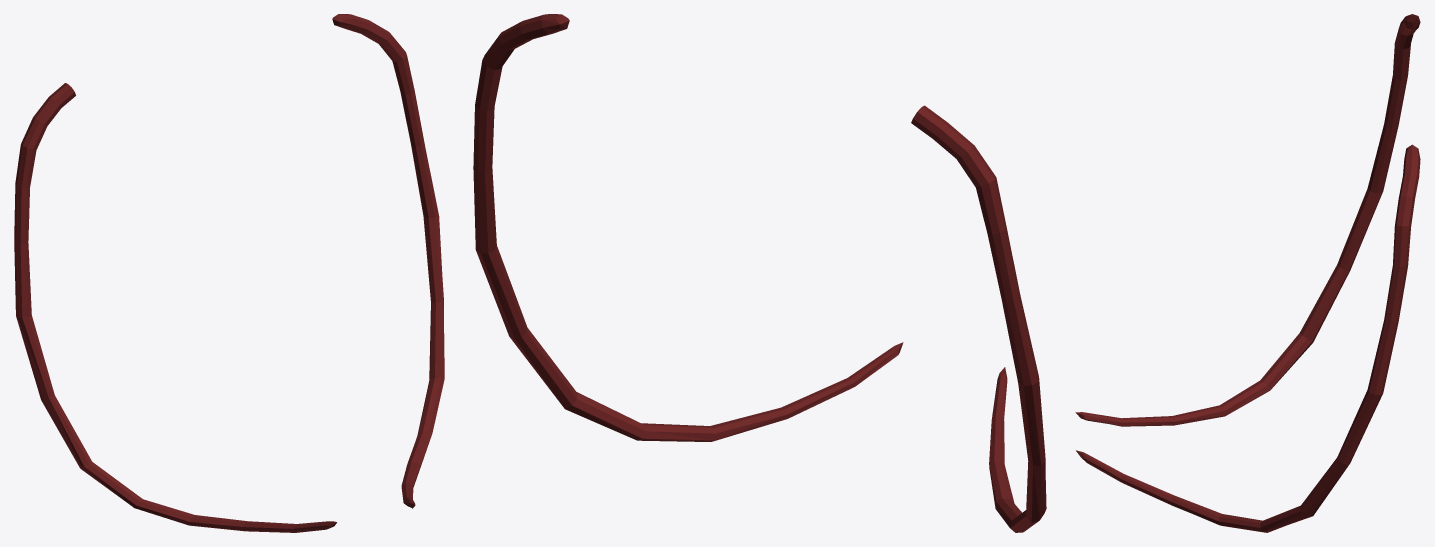
File: Artéria Glútea Inferior.FBX
The picture shows the model from 3 angles, left to right: view 1: azimuth 30°, elevation 25°; view 2: azimuth 150°, elevation 25°; view 3: azimuth 270°, elevation 25°; orthographic projection. The views are drawn at different scales.
Visible parts, largest first — view 1: CS_Arterie; view 2: CS_Arterie; view 3: CS_Arterie.
Boxes of the visible parts, bbox=[...] form: CS_Arterie: bbox=[14, 14, 444, 532]; CS_Arterie: bbox=[473, 14, 1046, 532]; CS_Arterie: bbox=[1075, 14, 1420, 532].
Bounding box in the file's own units: 371 × 324 × 260.
